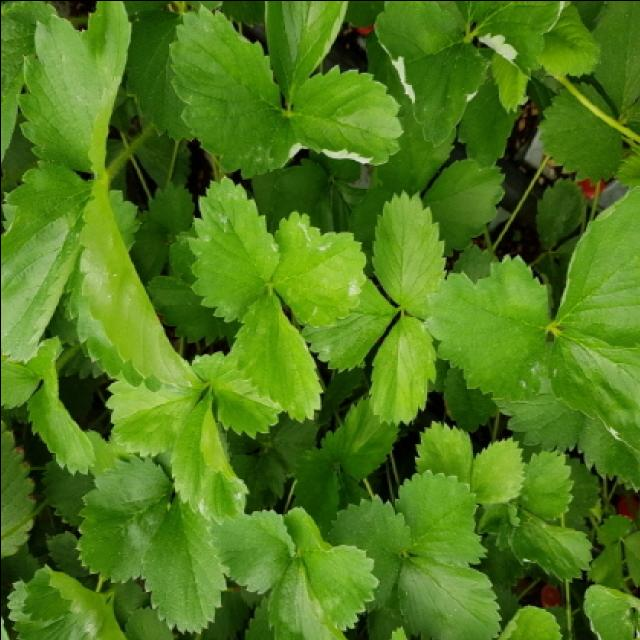Powdery Mildew Leaf: (165, 2, 303, 178), (423, 253, 553, 396), (372, 2, 488, 147), (185, 173, 280, 321), (545, 325, 638, 463), (290, 61, 403, 164), (271, 209, 367, 326), (170, 390, 249, 526), (299, 277, 400, 374), (4, 564, 127, 640), (460, 2, 568, 80)
